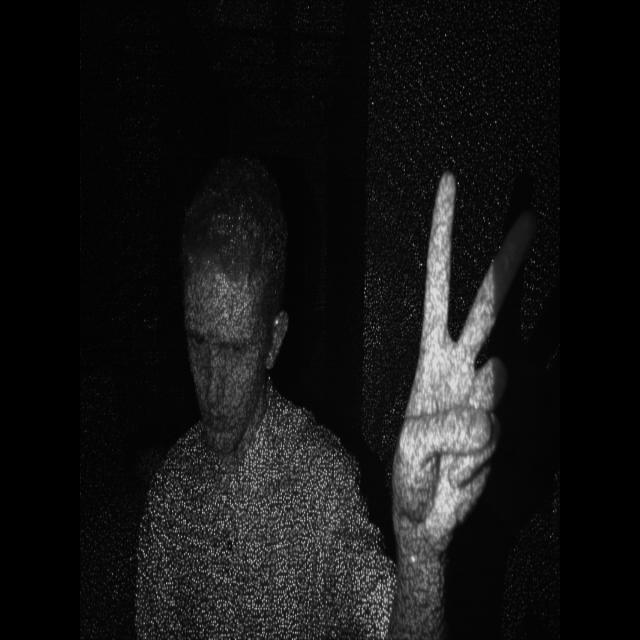V: (388, 139, 532, 555)
